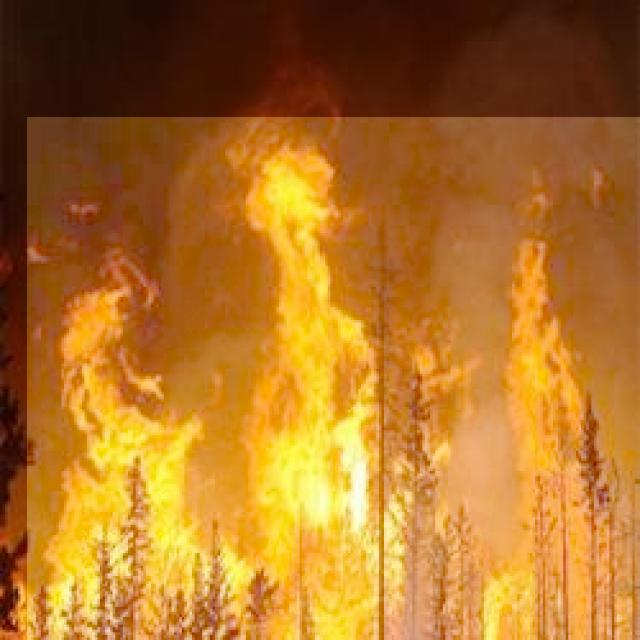Fire: (27, 117, 640, 640)
